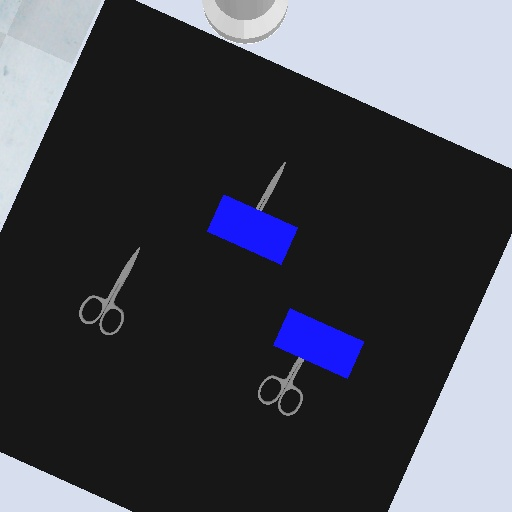tijera: (76, 244, 144, 339), (254, 356, 308, 418), (252, 159, 289, 213)
